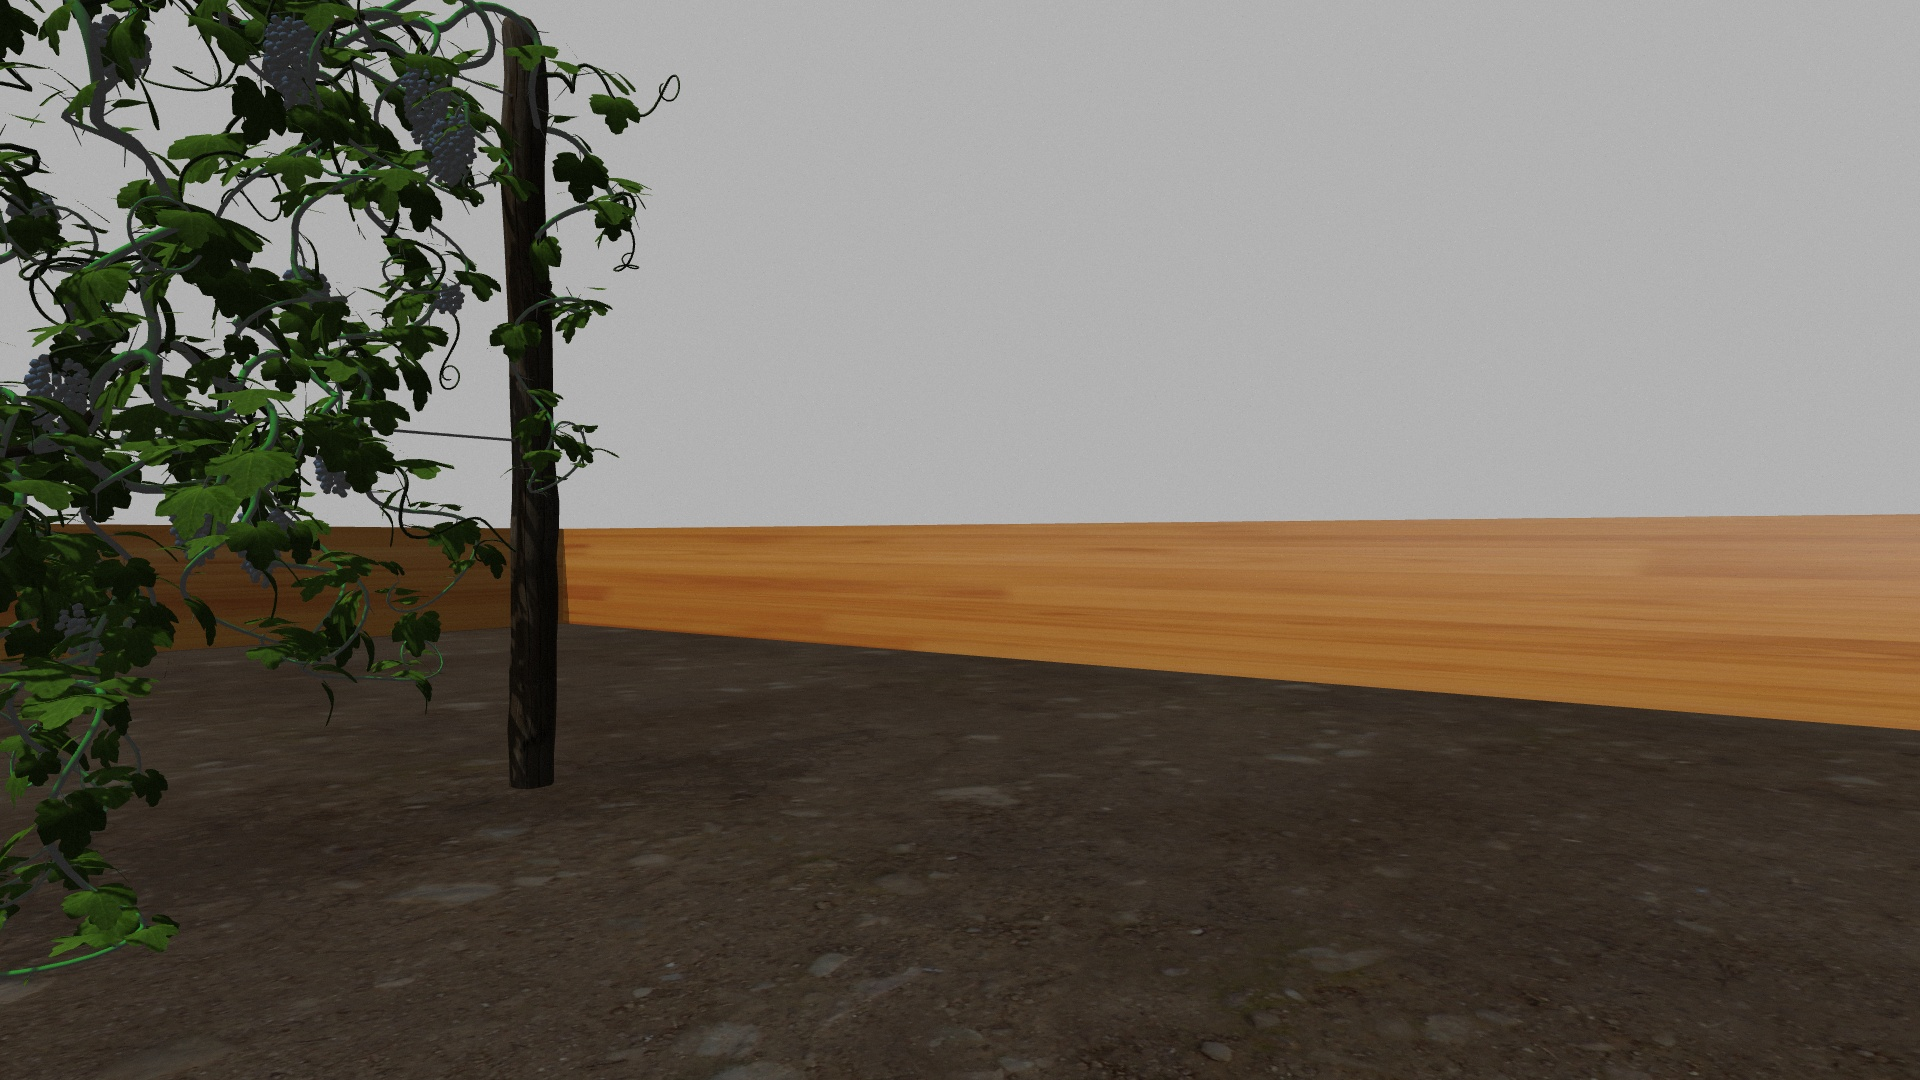grape: (258, 15, 322, 111), (22, 353, 95, 435), (429, 116, 477, 189), (402, 71, 451, 142), (433, 282, 465, 318)
